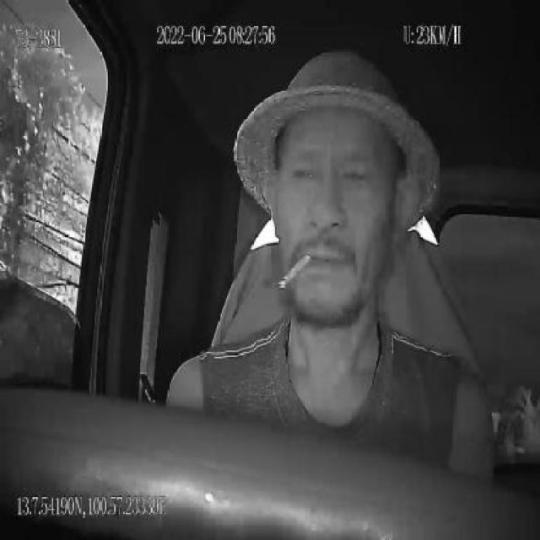smoking: (278, 252, 312, 292)
